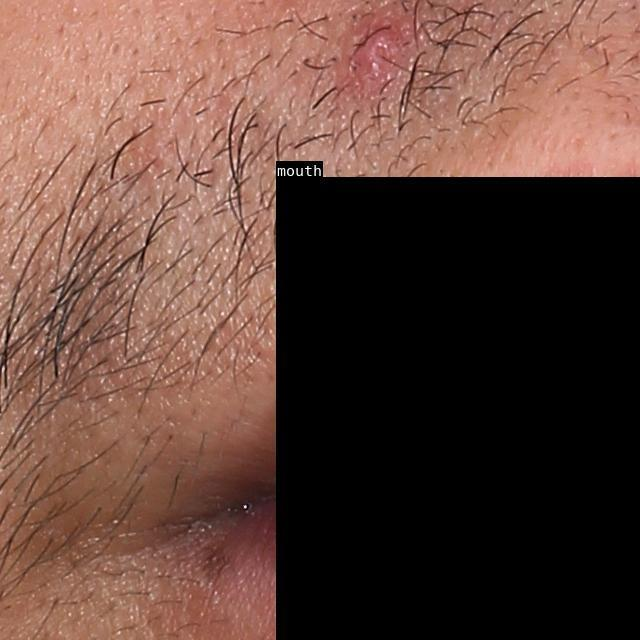papule: (348, 15, 412, 98)
